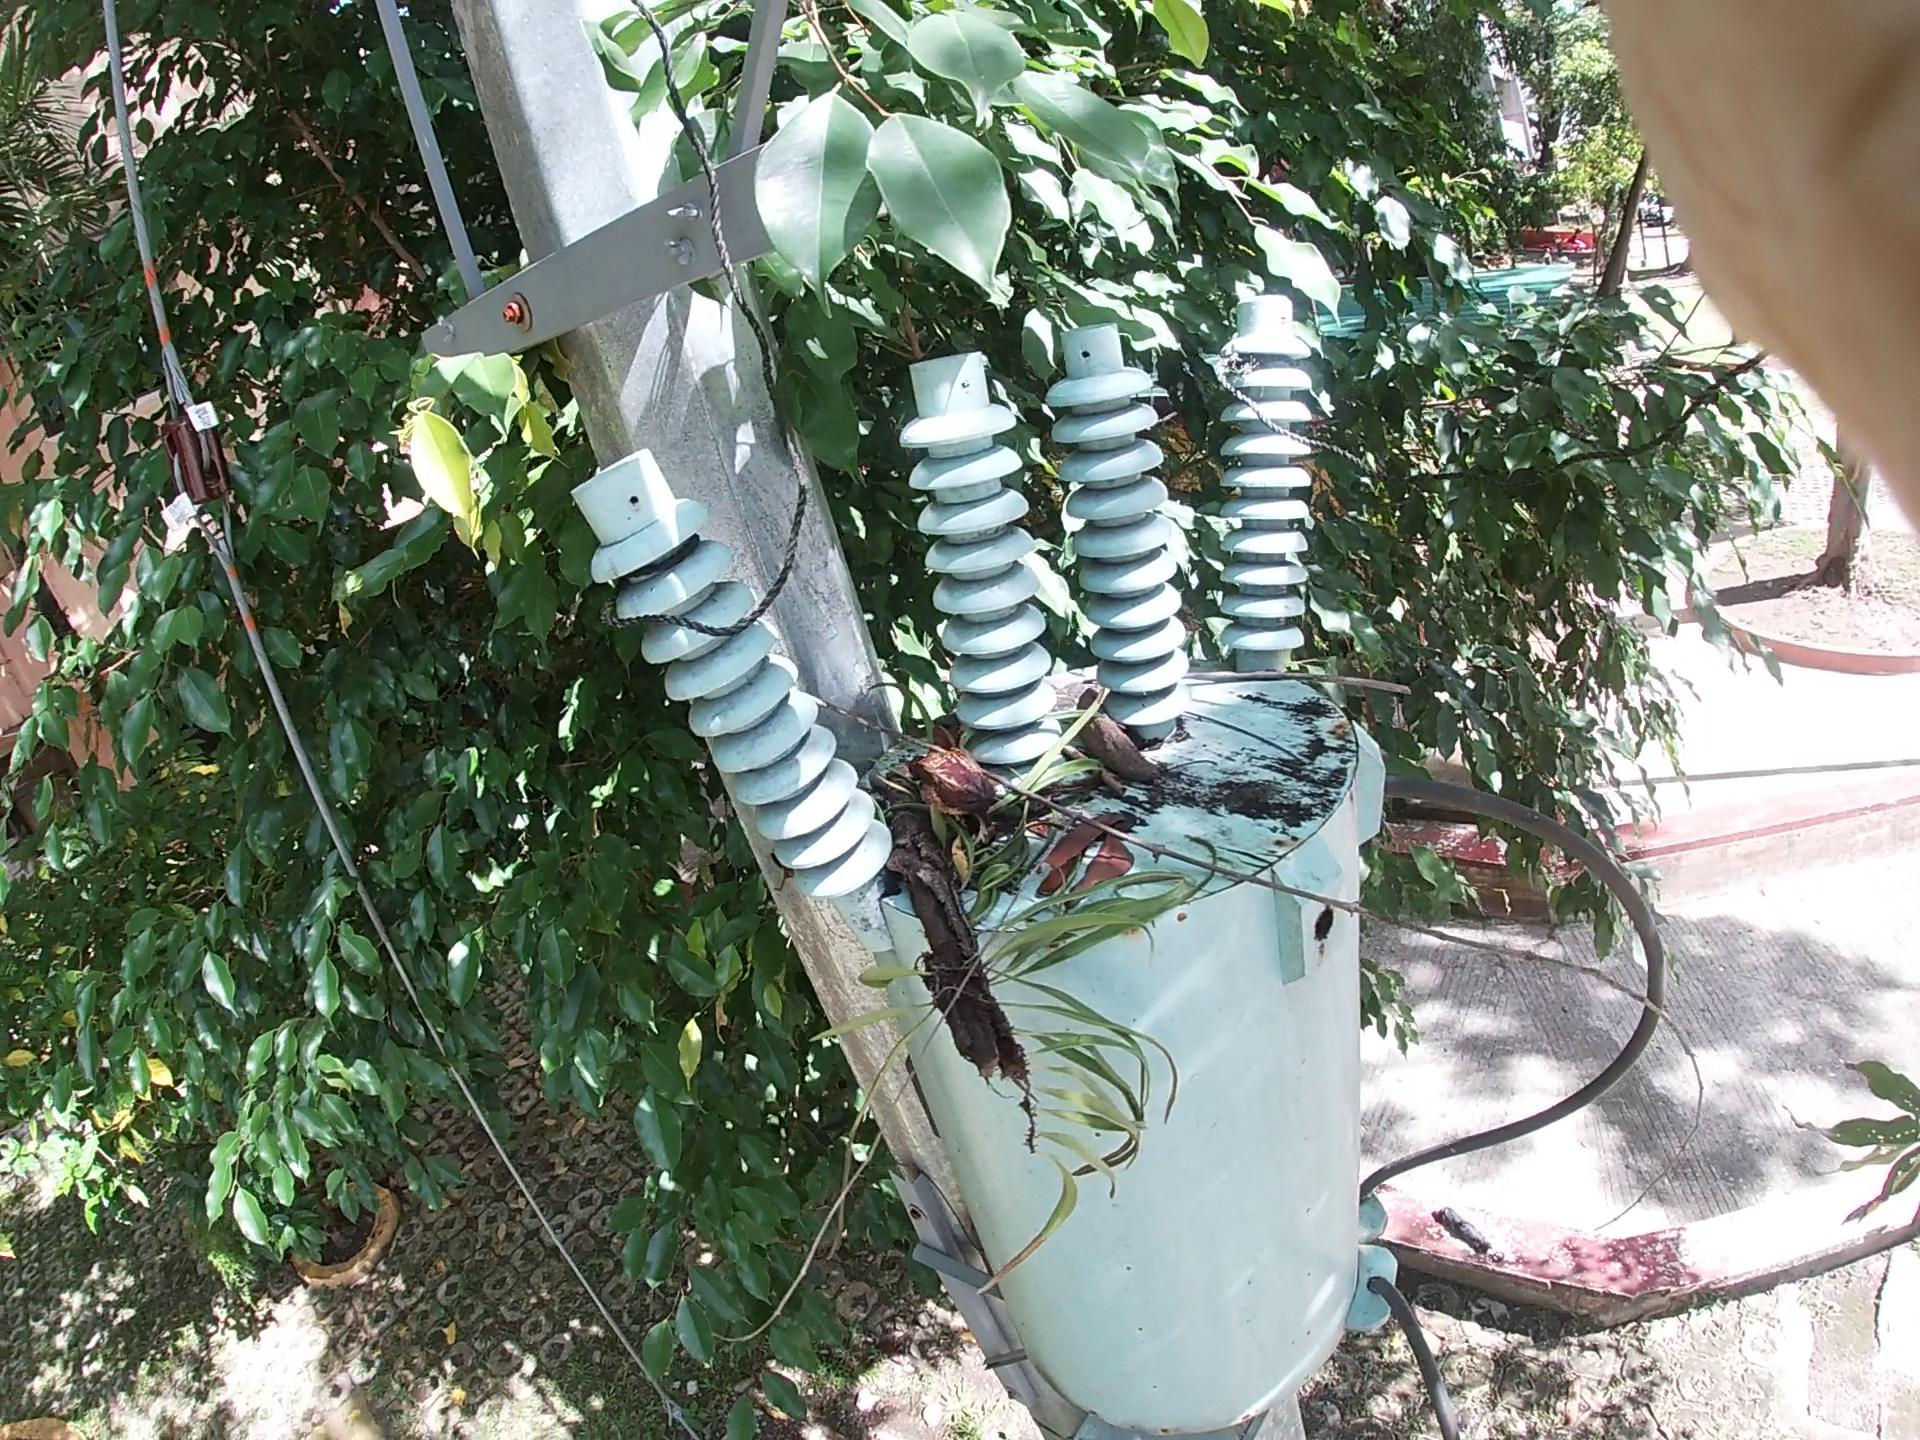branch with leaves: (816, 712, 1114, 1195)
leaf: (980, 796, 1144, 909)
mahogany fruit: (1079, 669, 1199, 811), (915, 711, 1033, 824)
tree branch: (853, 709, 1689, 1095), (1095, 655, 1442, 722)
